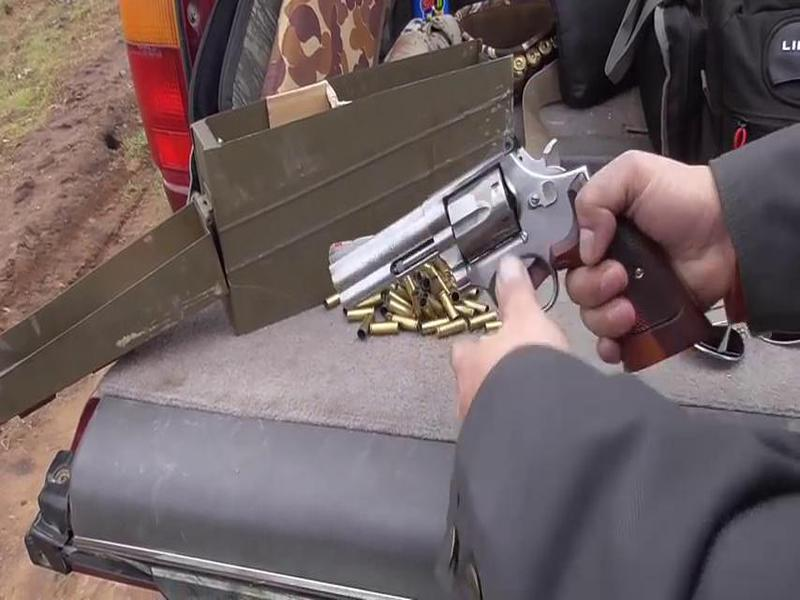Revolver: (286, 122, 766, 417)
